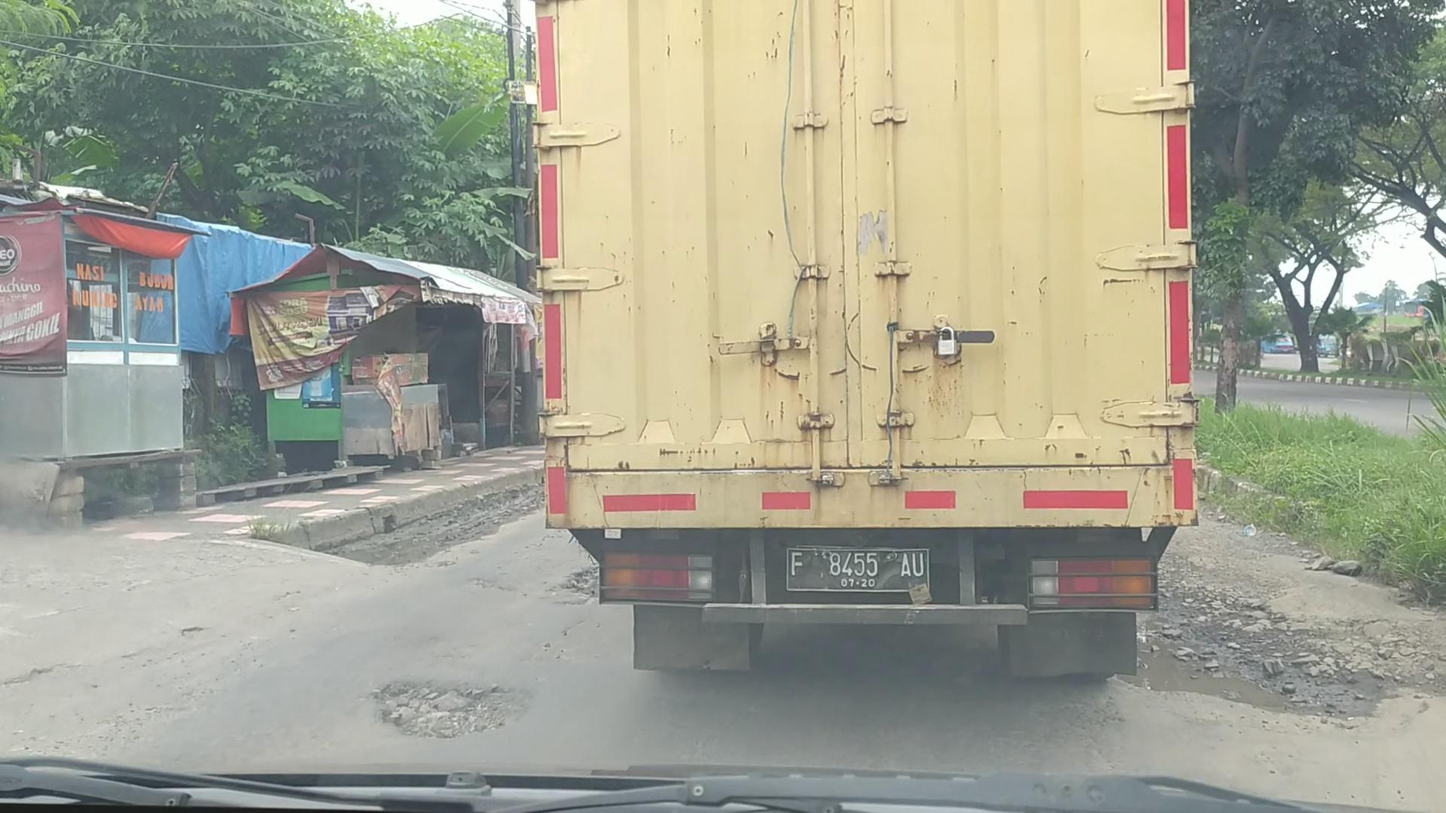pothole: (1121, 579, 1379, 716), (390, 676, 495, 737)
